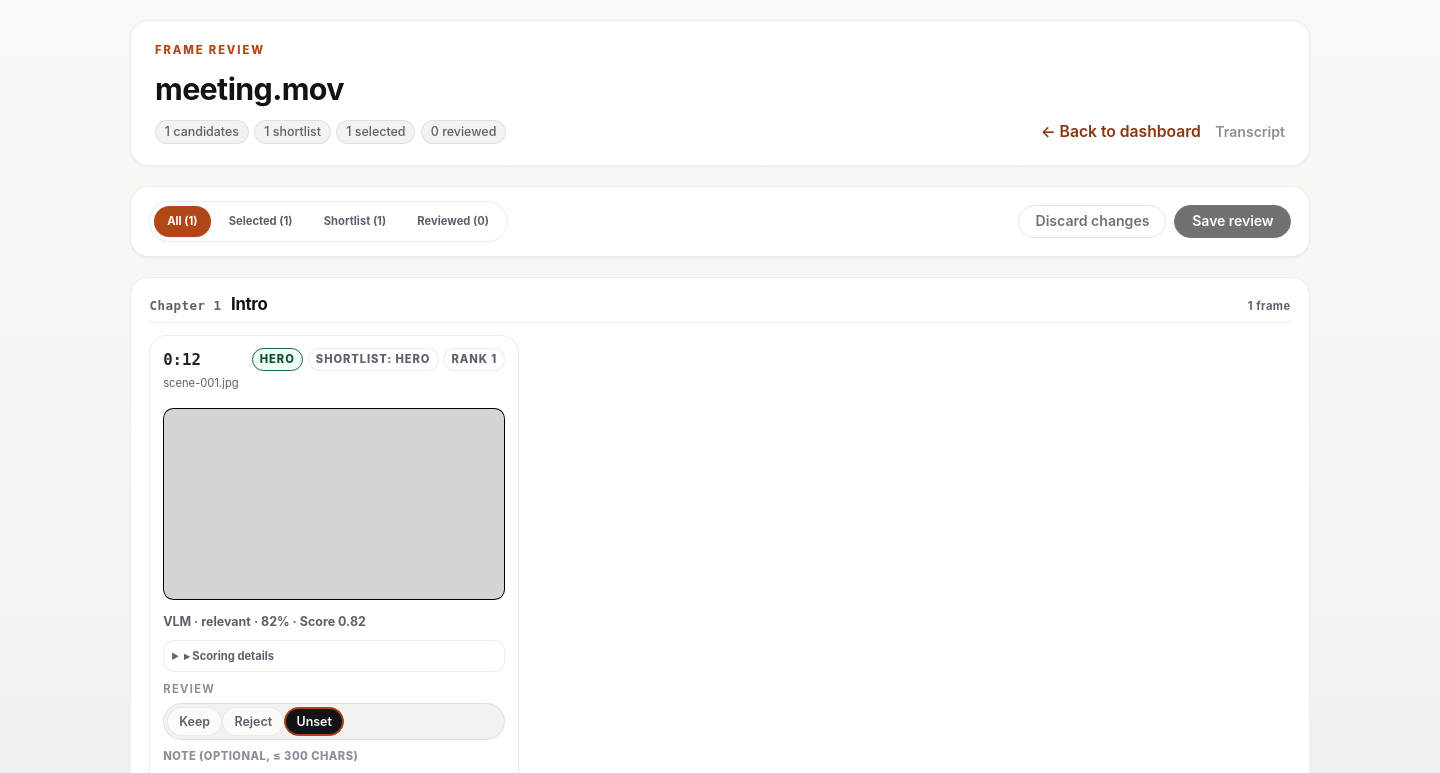
Test: FrameReviewPage › renders a bounded error when save fails
This screenshot has width=1440, height=773.
Expected: the text "scene-001.jpg" is shown, [163,375,239,392]
Click the radio button labelled "Keep" at coordinates (195, 722), box [167,707,222,736]
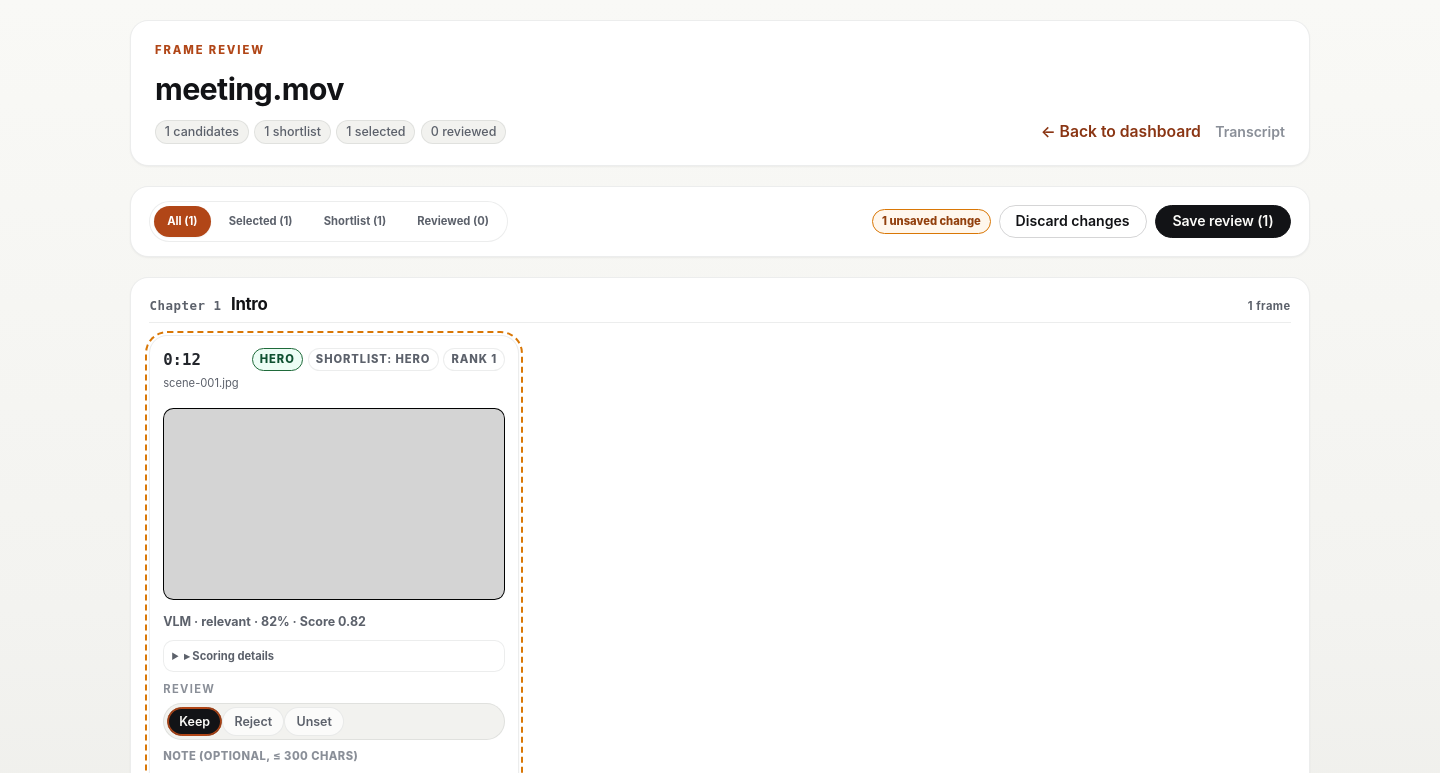
Click the button "Save review (1)" at coordinates (1223, 222), box [1155,205,1291,238]
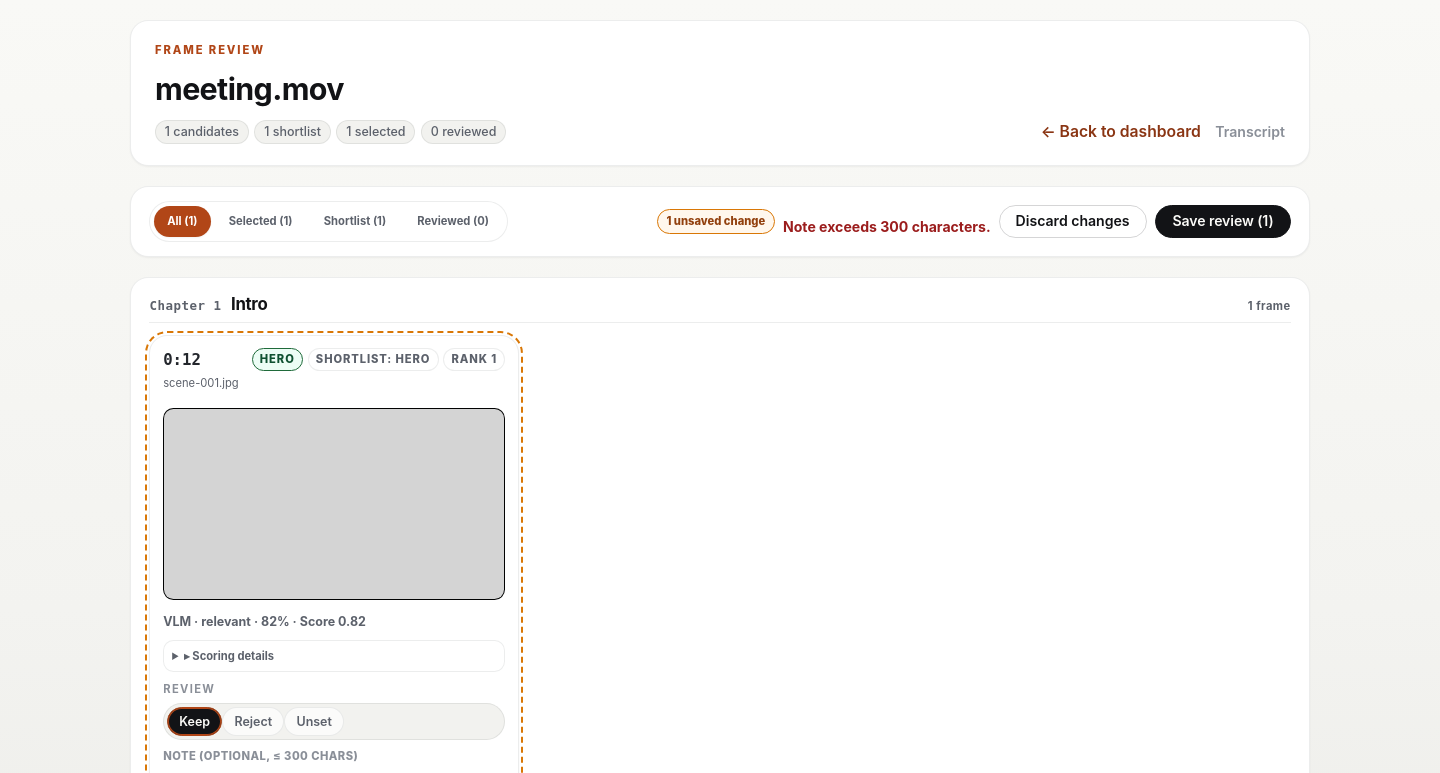
Expected: the text "Note exceeds 300 characters." is shown, [783,216,991,238]
